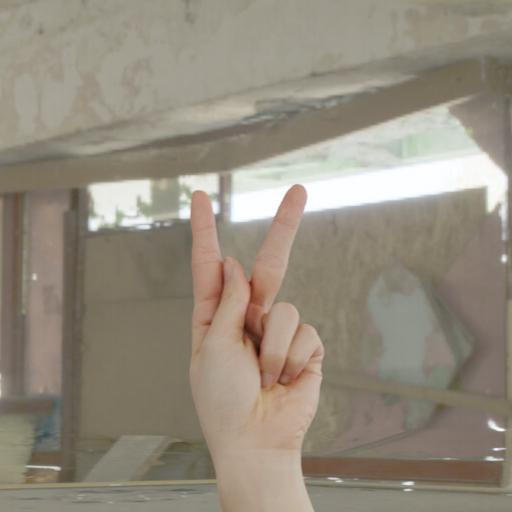K: (184, 172, 335, 468)
